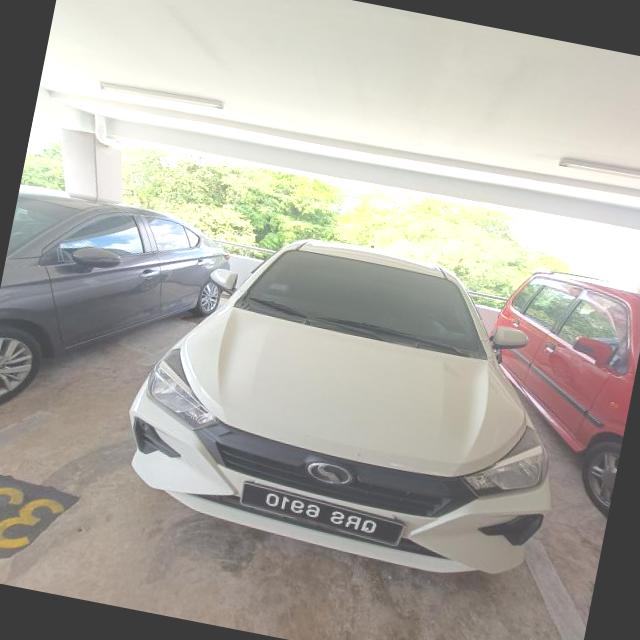PeroduaAxia: (109, 206, 596, 593)
